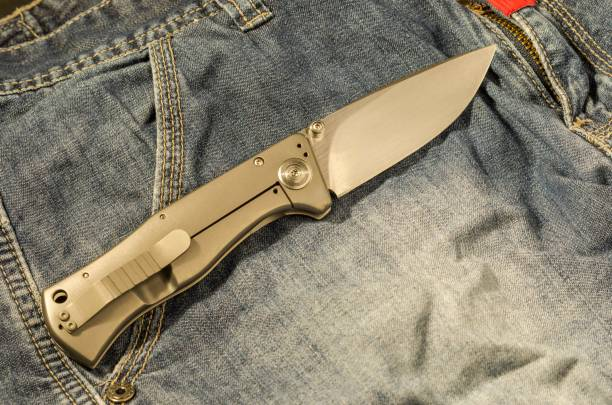knife: (42, 42, 498, 372)
